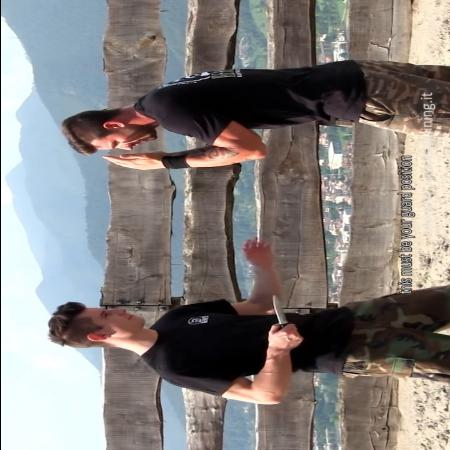long weapon: (264, 292, 305, 348)
